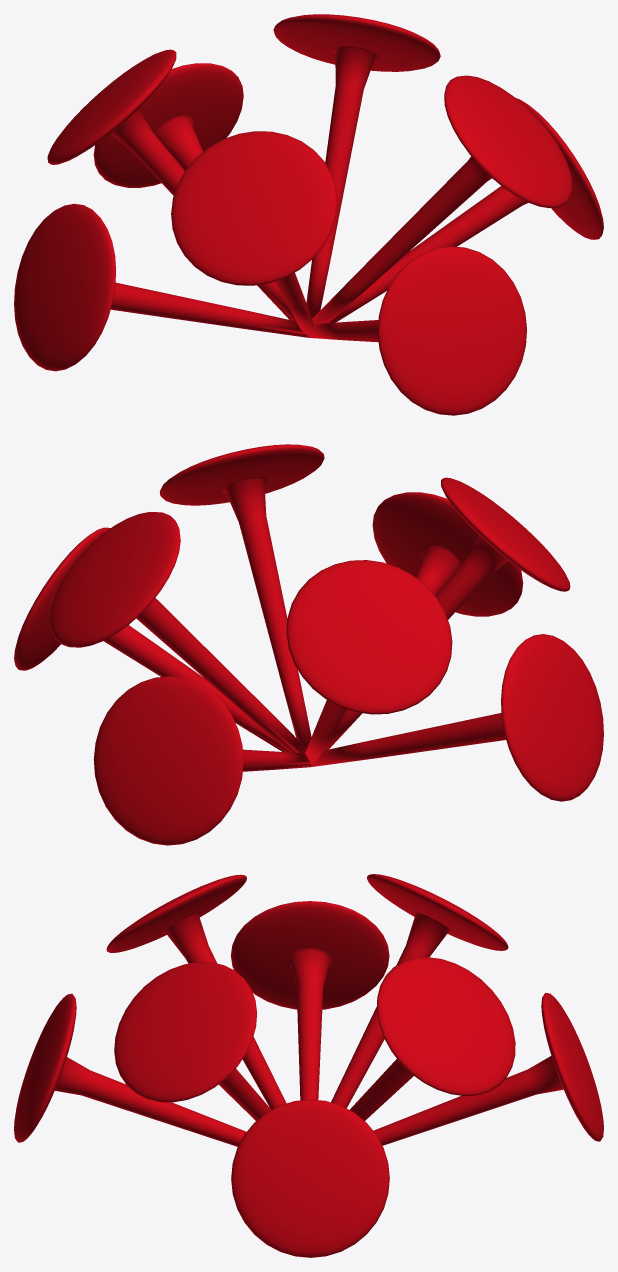
Rendered from grassaPetali1.obj.
The picture shows the model from 3 angles, top to bottom: view 1: azimuth 30°, elevation 25°; view 2: azimuth 150°, elevation 25°; view 3: azimuth 270°, elevation 25°; orthographic projection. The views are drawn at different scales.
Visible parts, largest first — view 1: Sphere.066; view 2: Sphere.066; view 3: Sphere.066.
Boxes of the visible parts, bbox=[...] form: Sphere.066: bbox=[14, 14, 603, 415]; Sphere.066: bbox=[14, 444, 603, 845]; Sphere.066: bbox=[14, 874, 603, 1257].
Size of the model in its own units: 1.12 by 0.5166 by 1.12.
